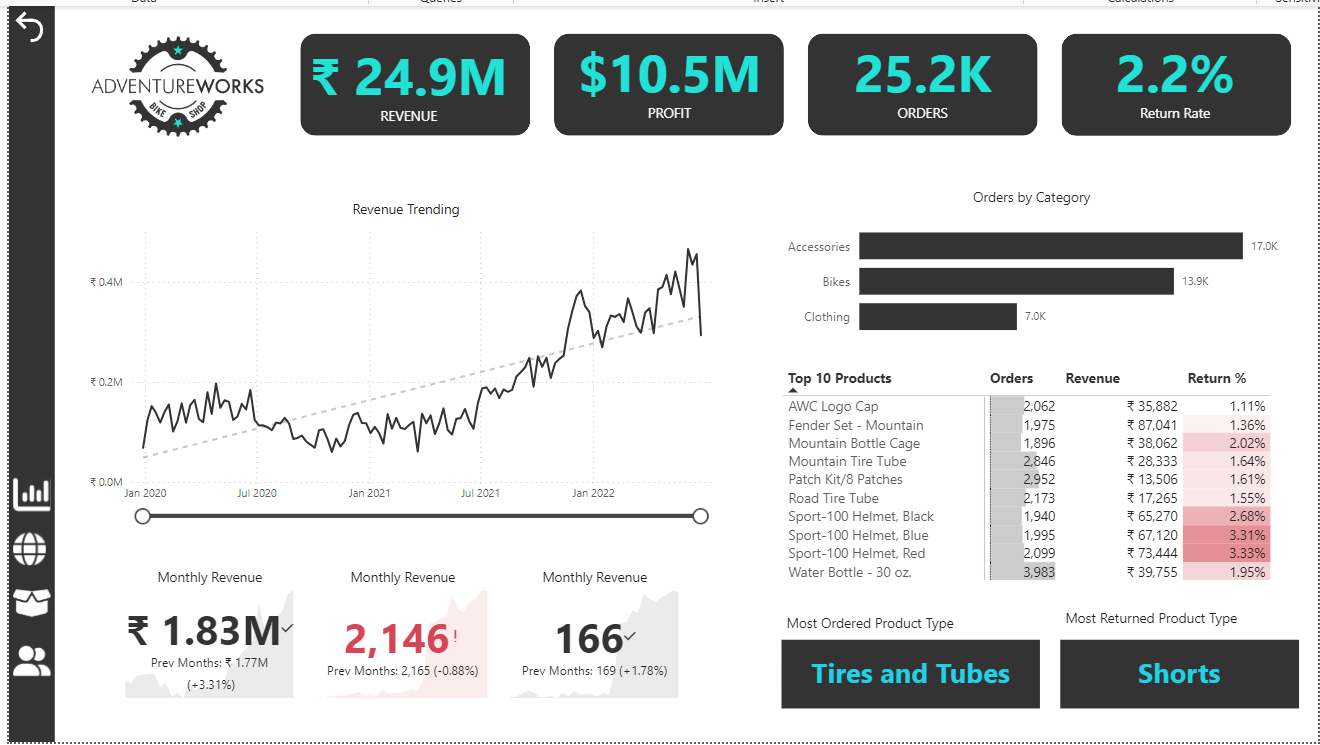

The dashboard page shown, as its layout file describes it:
{"tool":"powerbi","page":{"name":"Exec Dashboard","canvas":[1280,720],"ordinal":0},"visuals":[{"type":"image","title":"AW Logo","box":[57.7,0,216.4,157.3],"z":0},{"type":"card","fields":{"Values":["Measure Table.Total Revenue"]},"box":[274.6,9.3,232,130],"z":0,"group":"g3"},{"type":"shape","box":[284,26.9,225,100],"z":0,"group":"g2"},{"type":"actionButton","box":[0,511.6,44.7,40.4],"z":0,"group":"g4"},{"type":"shape","title":"Left Nav Background","box":[0,0,45,720.2],"z":1000},{"type":"card","fields":{"Values":["Measure Table.Return Rate"]},"box":[1033.3,9.3,215.4,123.5],"z":1000,"group":"g3"},{"type":"shape","box":[780.5,26.9,225,100],"z":1000,"group":"g2"},{"type":"actionButton","box":[0,452.9,44.7,50.5],"z":1000,"group":"g4"},{"type":"group","id":"g1","title":"KPIs","box":[274.6,9.3,979.1,130],"z":2000},{"type":"card","fields":{"Values":["Measure Table.Total Orders"]},"box":[785.5,9.3,215.4,123.5],"z":2000,"group":"g3"},{"type":"group","id":"g2","title":"KPIs Background","box":[284,26.9,969.7,100.3],"z":2000,"group":"g1"},{"type":"shape","box":[532.2,26.9,225,100],"z":2000,"group":"g2"},{"type":"actionButton","box":[0,560.2,44.7,47.6],"z":2000,"group":"g4"},{"type":"group","id":"g3","title":"KPI Values","box":[274.6,9.3,974.2,130],"z":3000,"group":"g1"},{"type":"card","fields":{"Values":["Measure Table.Total Profit"]},"box":[539,9.3,214.1,123.5],"z":3000,"group":"g3"},{"type":"shape","box":[1028.7,26.9,225,100.3],"z":3000,"group":"g2"},{"type":"lineChart","title":"Revenue Trending","fields":{"Category":["Calendar Lookup.Year","Calendar Lookup.Start of Month.Variation.Date Hierarchy.Month","Calendar Lookup.Start of Week"],"Y":["Measure Table.Total Revenue"]},"box":[73.4,189.5,629.8,320.4],"z":3000},{"type":"actionButton","box":[0,616,44.7,50.5],"z":3000,"group":"g4"},{"type":"kpi","title":"Monthly Revenue","fields":{"Indicator":["Measure Table.Total Revenue"],"TrendLine":["Calendar Lookup.Start of Month"],"Goal":["Measure Table.Previous Month Revenue"]},"box":[108.8,549.1,174.9,133.3],"z":4000},{"type":"kpi","title":"Monthly Revenue","fields":{"TrendLine":["Calendar Lookup.Start of Month"],"Indicator":["Measure Table.Total Orders"],"Goal":["Measure Table.Previous Months orders"]},"box":[296.5,549.1,176.1,133.3],"z":5000},{"type":"kpi","title":"Monthly Revenue","fields":{"TrendLine":["Calendar Lookup.Start of Month"],"Indicator":["Measure Table.Total Returns"],"Goal":["Measure Table.Previous Months Returns"]},"box":[485.5,549.1,174.9,133.3],"z":6000},{"type":"clusteredBarChart","title":"Orders by Category","fields":{"Category":["Product Categories Lookup.CategoryName"],"Y":["Measure Table.Total Orders"]},"box":[752,177.3,496.5,160.2],"z":7000},{"type":"pivotTable","fields":{"Rows":["Product Lookup.ProductName"],"Values":["Measure Table.Total Orders","Measure Table.Total Revenue","Measure Table.Return Rate"]},"box":[752,349.7,496.5,225],"z":8000},{"type":"card","fields":{"Values":["Min(Product Subcategories Lookup.SubcategoryName)"]},"box":[755.8,620.4,253.2,66.8],"z":9000},{"type":"textbox","box":[755.8,589.1,196.3,31.3],"z":10000},{"type":"card","fields":{"Values":["Min(Product Subcategories Lookup.SubcategoryName)"]},"box":[1028.3,620.1,233.2,66.8],"z":11000},{"type":"textbox","box":[1028.3,584.5,190.6,31.3],"z":12000},{"type":"actionButton","box":[0,0,45.2,40.4],"z":13000},{"type":"group","id":"g4","title":"Navigation Buttons","box":[0,452.9,44.7,213.6],"z":14000}]}

Visuals, with their boxes on the page's 1280x720 design canvas (x1, y1, x2, y2). These are canvas units, not pixel positions in the 1320x745 screenshot, which may show the page scaled, cropped or inside an application window:
"AW Logo" image: box(58, 0, 274, 157)
card - Measure Table.Total Revenue: box(275, 9, 507, 139)
shape: box(284, 27, 509, 127)
actionButton: box(0, 512, 45, 552)
"Left Nav Background" shape: box(0, 0, 45, 720)
card - Measure Table.Return Rate: box(1033, 9, 1249, 133)
shape: box(780, 27, 1006, 127)
actionButton: box(0, 453, 45, 503)
"KPIs" group: box(275, 9, 1254, 139)
card - Measure Table.Total Orders: box(786, 9, 1001, 133)
"KPIs Background" group: box(284, 27, 1254, 127)
shape: box(532, 27, 757, 127)
actionButton: box(0, 560, 45, 608)
"KPI Values" group: box(275, 9, 1249, 139)
card - Measure Table.Total Profit: box(539, 9, 753, 133)
shape: box(1029, 27, 1254, 127)
"Revenue Trending" lineChart: box(73, 190, 703, 510)
actionButton: box(0, 616, 45, 666)
"Monthly Revenue" kpi: box(109, 549, 284, 682)
"Monthly Revenue" kpi: box(296, 549, 473, 682)
"Monthly Revenue" kpi: box(486, 549, 660, 682)
"Orders by Category" clusteredBarChart: box(752, 177, 1248, 338)
pivotTable - Product Lookup.ProductName x Measure Table.Total Orders: box(752, 350, 1248, 575)
card - Min(Product Subcategories Lookup.SubcategoryName): box(756, 620, 1009, 687)
textbox: box(756, 589, 952, 620)
card - Min(Product Subcategories Lookup.SubcategoryName): box(1028, 620, 1262, 687)
textbox: box(1028, 584, 1219, 616)
actionButton: box(0, 0, 45, 40)
"Navigation Buttons" group: box(0, 453, 45, 666)
